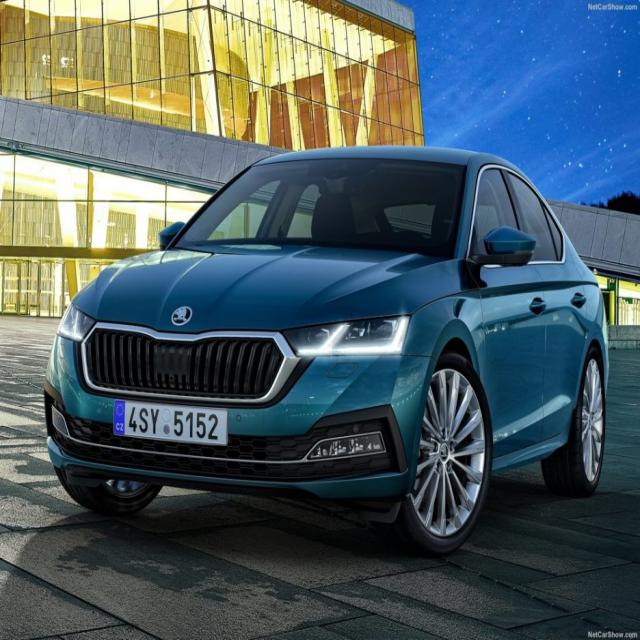yolov7-seg-car: (43, 146, 609, 556)
